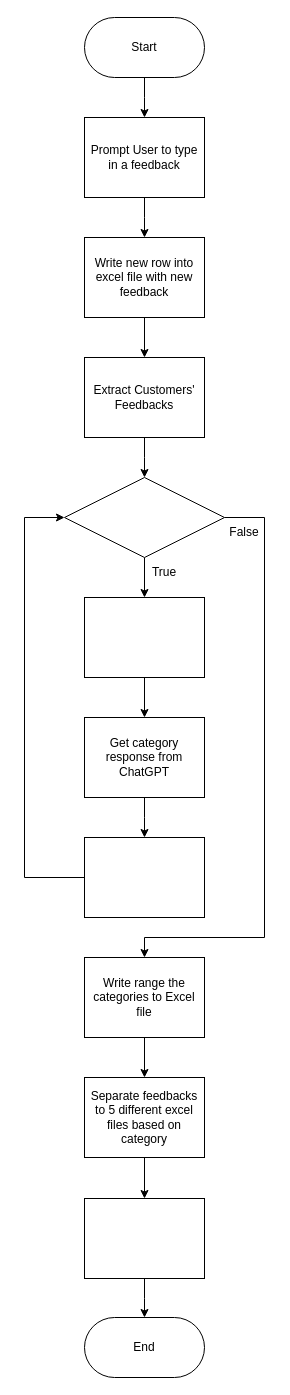
This 290x1395 diagram has some shape labels left out. Here are the shapes that lost their labels. From the top down, the centre of each, then its label:
the point at 144,517: Read each feedback
the point at 144,637: Send feedback to ChatGPT with HTTP Request
the point at 144,877: Fill corresponding row with the category
the point at 144,1238: Send to 5 different email with their corresponding attachment excel files
